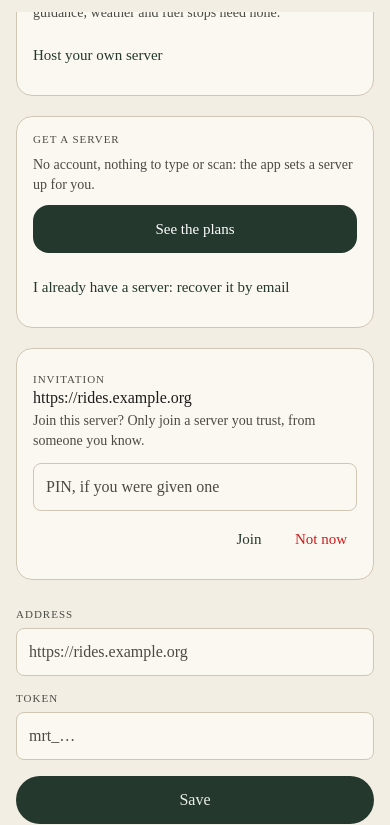
Test: an invitation that is burnt, no longer valid or out of reach says so and stays until put away
(page scrolled)
Click the button with aria-label "Join the server" at (249, 539), box [217,515,281,563]
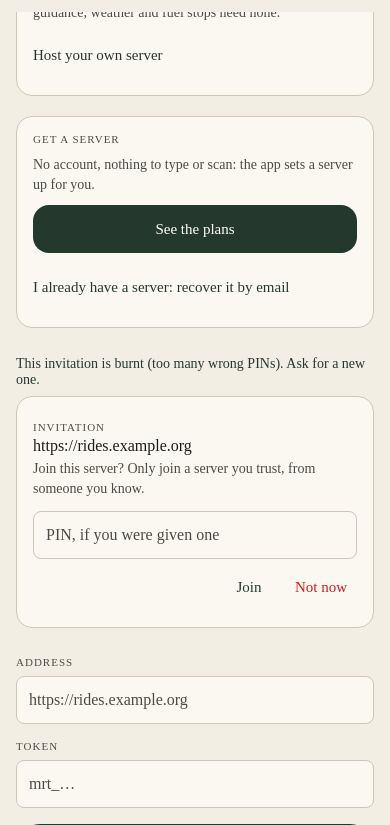
Check: the text "This invitation is burnt (too many wrong PINs). Ask for a new one." is shown, box [16,348,374,388]
Click the button with aria-label "Join the server" at (249, 587), box [217,563,281,611]
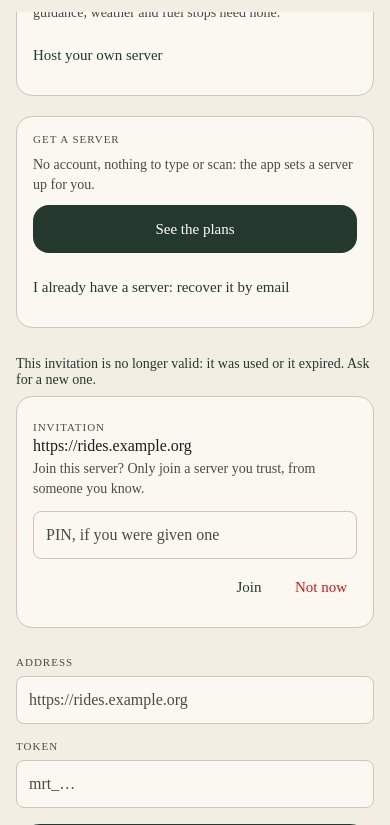
Check: the text "no longer valid" is shown, box [16,356,373,387]
Click the button with aria-label "Join the server" at (249, 587), box [217,563,281,611]
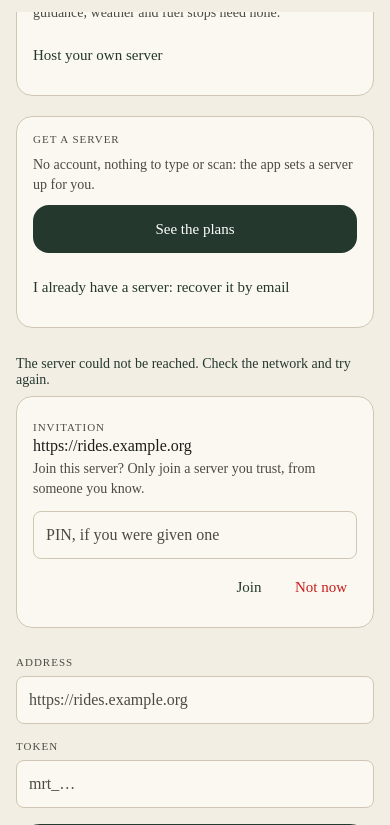
Check: the element with test id "invitation" is shown, box [16,396,374,628]
Check: the text "The server could not be reached. Check the network and try again." is shown, box [16,348,374,388]
Click the button with aria-label "Put the invitation away" at (321, 587), box [285,563,357,611]
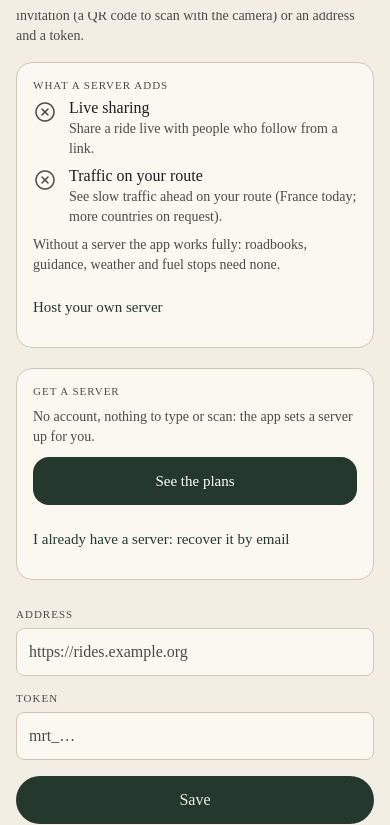
Check: the password field with test id "invitation" is gone
